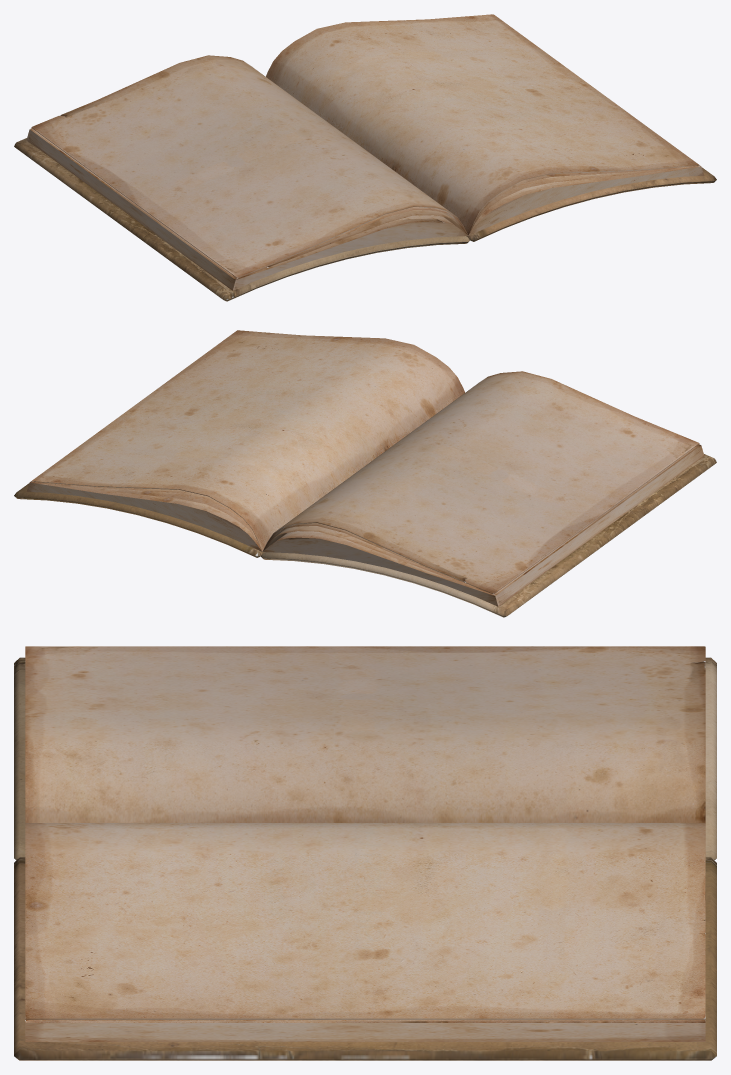
Rendered from OpenBook.FBX.
3 views of the same model, one above another, from view 1: azimuth 30°, elevation 25°; view 2: azimuth 150°, elevation 25°; view 3: azimuth 270°, elevation 25° (orthographic). The views are drawn at different scales.
Visible parts, largest first — view 1: PageR1, PageL1, PageGroupL, FrontBook, PageGroupR, BackBook, PageL3, PageR3, PageL2, PageR2; view 2: PageR1, PageL1, PageGroupL, FrontBook, PageGroupR, BackBook, PageL3, PageR3, PageL2, PageR2; view 3: PageR1, PageL1, BackBook, PageGroupR, FrontBook, PageR3, PageR2.
Boxes of the visible parts, box(x1,y1,x2,y2) form: PageR1: box(266, 14, 699, 235); PageL1: box(31, 55, 467, 278); PageGroupL: box(26, 129, 467, 290); FrontBook: box(14, 138, 469, 301); PageGroupR: box(469, 165, 704, 235); BackBook: box(466, 167, 716, 241); PageL3: box(31, 128, 467, 278); PageR3: box(469, 166, 699, 233); PageL2: box(32, 128, 467, 278); PageR2: box(471, 165, 699, 229); PageR1: box(31, 330, 464, 551); PageL1: box(263, 371, 699, 594); PageGroupL: box(263, 445, 704, 606); FrontBook: box(261, 454, 716, 617); PageGroupR: box(26, 481, 261, 551); BackBook: box(14, 483, 264, 557); PageL3: box(263, 444, 699, 594); PageR3: box(31, 482, 261, 549); PageL2: box(263, 444, 698, 594); PageR2: box(31, 481, 259, 545); PageR1: box(25, 823, 705, 1019); PageL1: box(25, 646, 705, 822); BackBook: box(14, 857, 716, 1060); PageGroupR: box(25, 1021, 705, 1041); FrontBook: box(14, 657, 716, 859); PageR3: box(25, 1020, 705, 1021); PageR2: box(25, 1019, 705, 1019).
Size of the model in its own units: 41.47 by 3.91 by 31.
